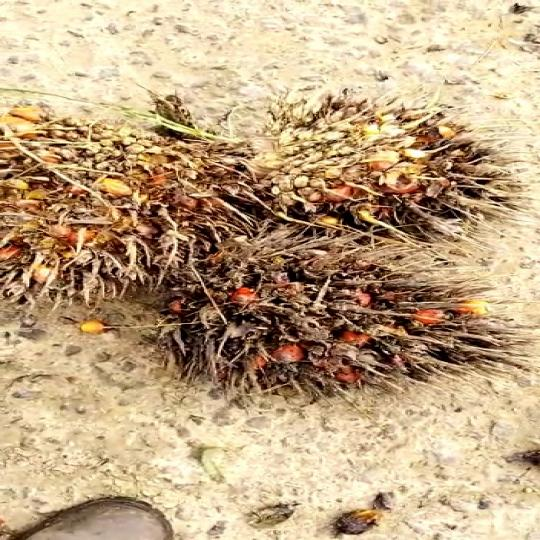terlalu masak: (135, 246, 528, 406), (237, 97, 520, 245)
